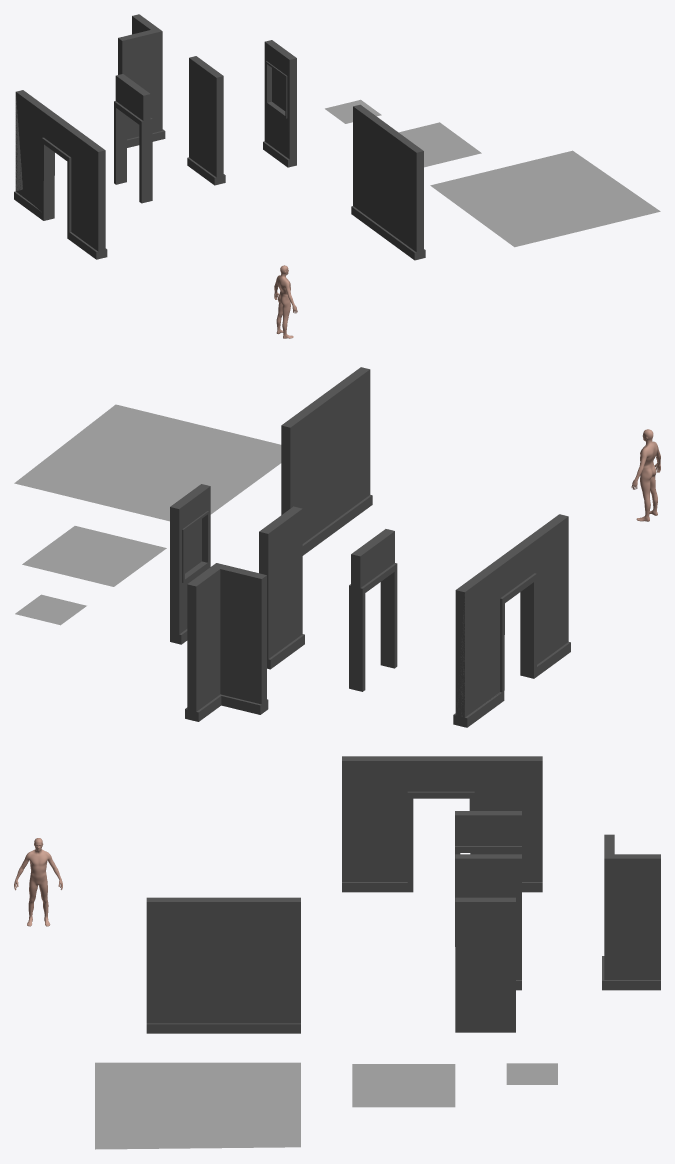
Rendered from modularkit.fbx.
3 views of the same model, one above another, from view 1: azimuth 30°, elevation 25°; view 2: azimuth 150°, elevation 25°; view 3: azimuth 270°, elevation 25° (orthographic). The views are drawn at different scales.
Visible parts, largest first — view 1: sol_large, polySurface3, Long_mur_double, Mur_simple_double, Fenetre, Double_coin_interieur, Porte_ouvert, sol_moyen, HumanBody:humanBody, sol_petit; view 2: sol_large, polySurface3, Long_mur_double, Double_coin_interieur, Mur_simple_double, Porte_ouvert, sol_moyen, Fenetre, HumanBody:humanBody, sol_petit; view 3: Long_mur_double, polySurface3, sol_large, Fenetre, Double_coin_interieur, sol_moyen, Mur_simple_double, Porte_ouvert, HumanBody:humanBody, sol_petit.
Part boxes in pixels (<box>): sol_large: <box>430,150,660,247</box>; polySurface3: <box>14,90,107,259</box>; Long_mur_double: <box>351,104,425,260</box>; Mur_simple_double: <box>187,56,225,185</box>; Fenetre: <box>263,40,296,167</box>; Double_coin_interieur: <box>118,14,165,147</box>; Porte_ouvert: <box>114,74,152,203</box>; sol_moyen: <box>399,122,481,167</box>; HumanBody:humanBody: <box>274,265,297,338</box>; sol_petit: <box>325,99,381,123</box>; sol_large: <box>14,404,281,521</box>; polySurface3: <box>453,514,570,727</box>; Long_mur_double: <box>281,367,372,555</box>; Double_coin_interieur: <box>185,563,268,721</box>; Mur_simple_double: <box>259,506,304,669</box>; Porte_ouvert: <box>349,529,397,691</box>; sol_moyen: <box>22,526,166,586</box>; Fenetre: <box>170,484,210,644</box>; HumanBody:humanBody: <box>631,429,660,521</box>; sol_petit: <box>15,594,86,625</box>; Long_mur_double: <box>146,897,300,1033</box>; polySurface3: <box>342,756,542,892</box>; sol_large: <box>95,1062,300,1149</box>; Fenetre: <box>455,897,515,1032</box>; Double_coin_interieur: <box>602,834,660,990</box>; sol_moyen: <box>352,1064,455,1107</box>; Mur_simple_double: <box>455,854,521,990</box>; Porte_ouvert: <box>455,811,521,946</box>; HumanBody:humanBody: <box>14,838,62,926</box>; sol_petit: <box>506,1063,557,1084</box>.
Bounding box in the file's own units: 1265 × 280 × 1258.
